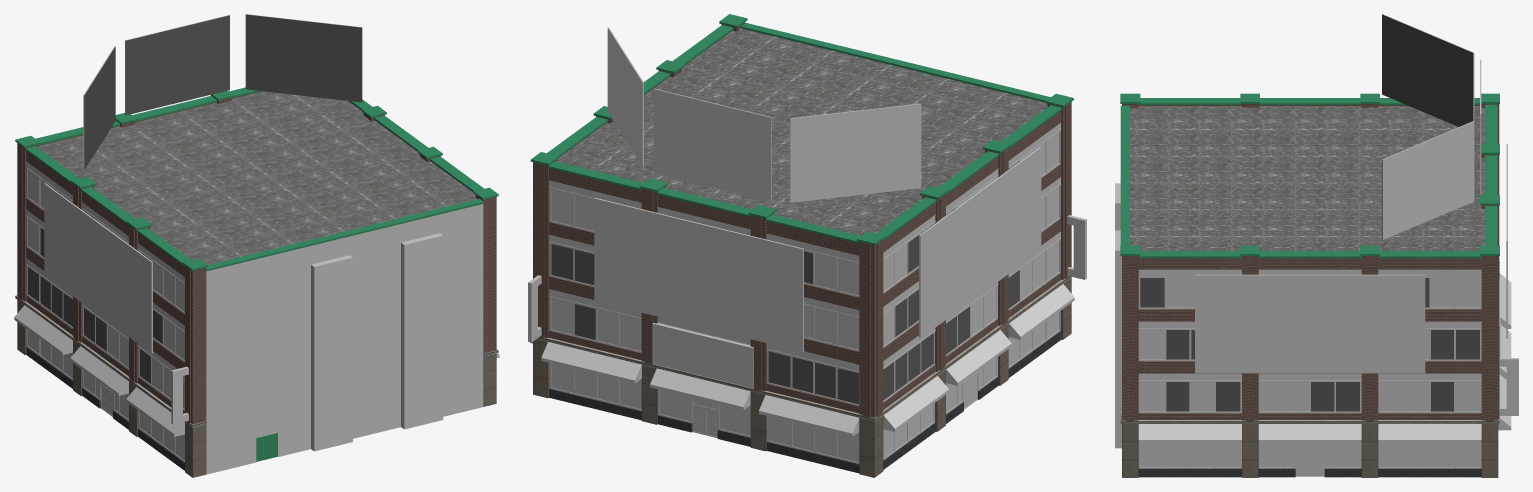
The model's file is mcp_building_32_LOD_1.FBX.
3 renders of one model, left to right at view 1: azimuth 30°, elevation 25°; view 2: azimuth 150°, elevation 25°; view 3: azimuth 270°, elevation 25°, orthographic. The views are drawn at different scales.
Parts seen in each view (by area): view 1: mcp_building_32_walls, mcp_building_32_billboards, mcp_building_32, mcp_building_32_concrete, mcp_building_32_marble, mcp_building_32_door; view 2: mcp_building_32_walls, mcp_building_32_billboards, mcp_building_32, mcp_building_32_concrete, mcp_building_32_marble; view 3: mcp_building_32_walls, mcp_building_32, mcp_building_32_billboards, mcp_building_32_concrete, mcp_building_32_marble.
Boxes of the visible parts, left/top/right/bottom form: mcp_building_32_walls: left=17, top=91, right=496, bottom=477; mcp_building_32_billboards: left=44, top=14, right=362, bottom=353; mcp_building_32: left=14, top=161, right=499, bottom=462; mcp_building_32_concrete: left=15, top=87, right=498, bottom=427; mcp_building_32_marble: left=26, top=347, right=184, bottom=470; mcp_building_32_door: left=256, top=433, right=277, bottom=461; mcp_building_32_walls: left=533, top=22, right=1071, bottom=477; mcp_building_32_billboards: left=594, top=27, right=1041, bottom=351; mcp_building_32: left=528, top=122, right=1086, bottom=463; mcp_building_32_concrete: left=530, top=14, right=1073, bottom=421; mcp_building_32_marble: left=549, top=331, right=1061, bottom=473; mcp_building_32_walls: left=1115, top=104, right=1499, bottom=477; mcp_building_32: left=1138, top=269, right=1518, bottom=476; mcp_building_32_billboards: left=1195, top=14, right=1507, bottom=373; mcp_building_32_concrete: left=1120, top=93, right=1499, bottom=423; mcp_building_32_marble: left=1138, top=468, right=1481, bottom=477.
Size of the model in its own units: 4171 by 3497 by 4109.
